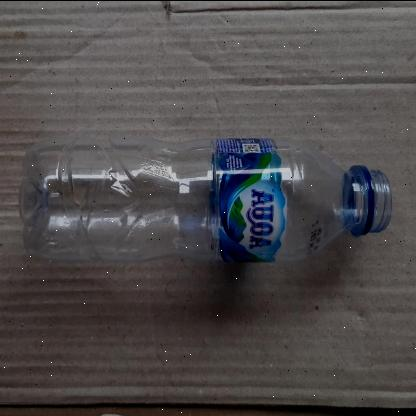Plastic Bottle: (20, 141, 392, 262)
